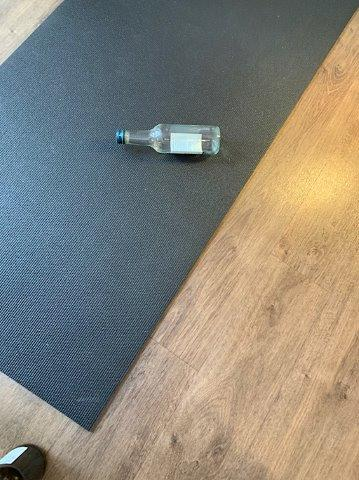botolkaca: (117, 125, 219, 155)
